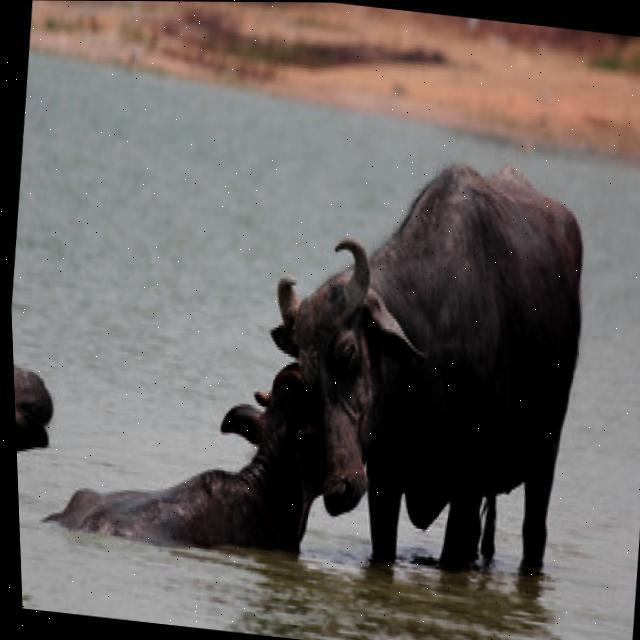Buffalo: (242, 140, 607, 591)
